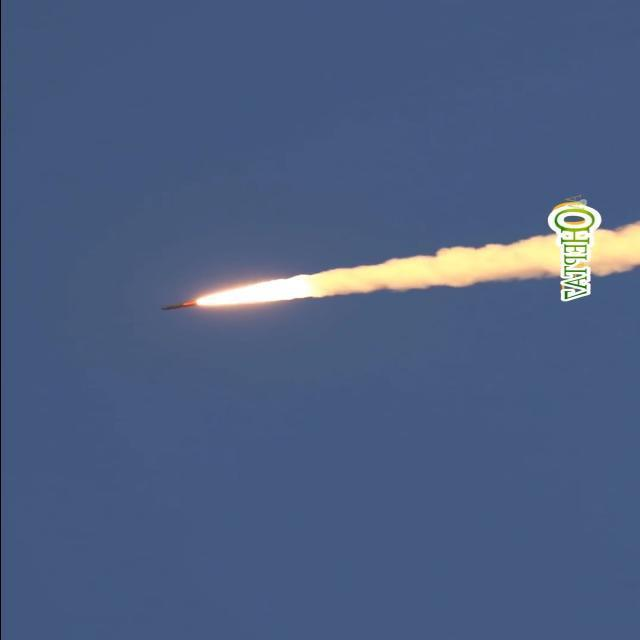Missile: (146, 300, 214, 314)
